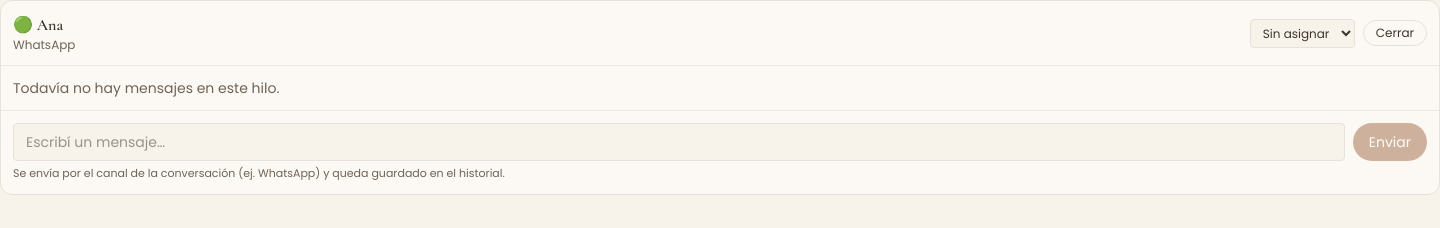
ConversationThread — mensaje duplicado › un mensaje que llega por el polling y después por el envío queda una sola vez
This screenshot has width=1440, height=228.
Type "Hola, ¿cómo estás?" into the field with placeholder "Escribí un mensaje…" at (679, 142), box [13,123,1345,161]
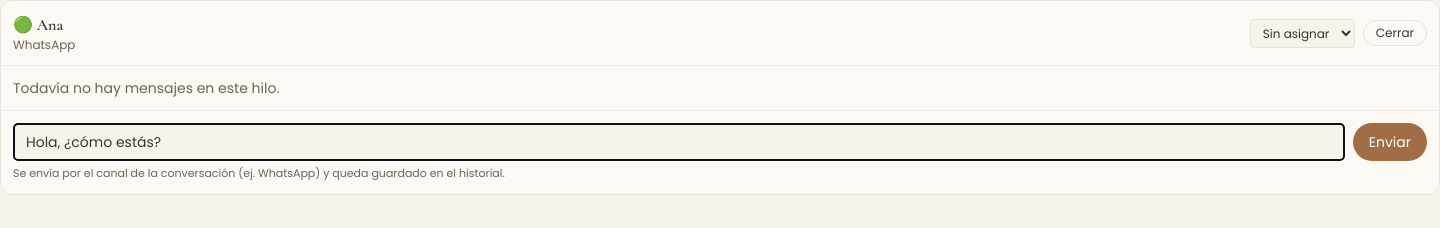
Click the button "Enviar" at (1390, 142), box [1353,123,1427,161]
Wait 5100 ms
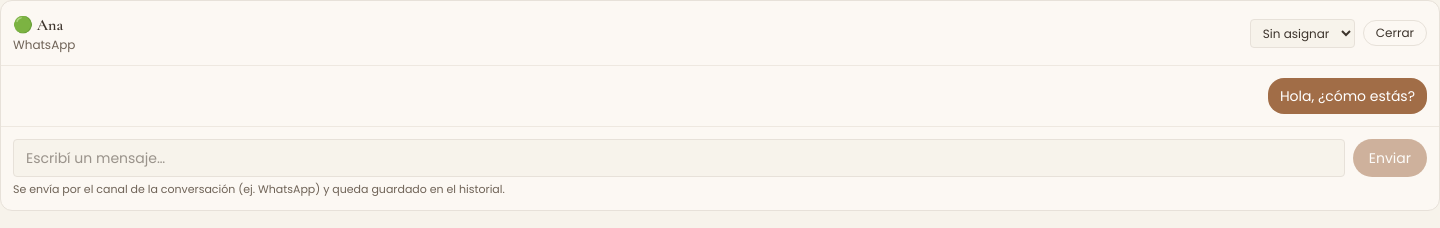
Now the text "Hola, ¿cómo estás?" is shown once, box [1268,78,1427,114]
